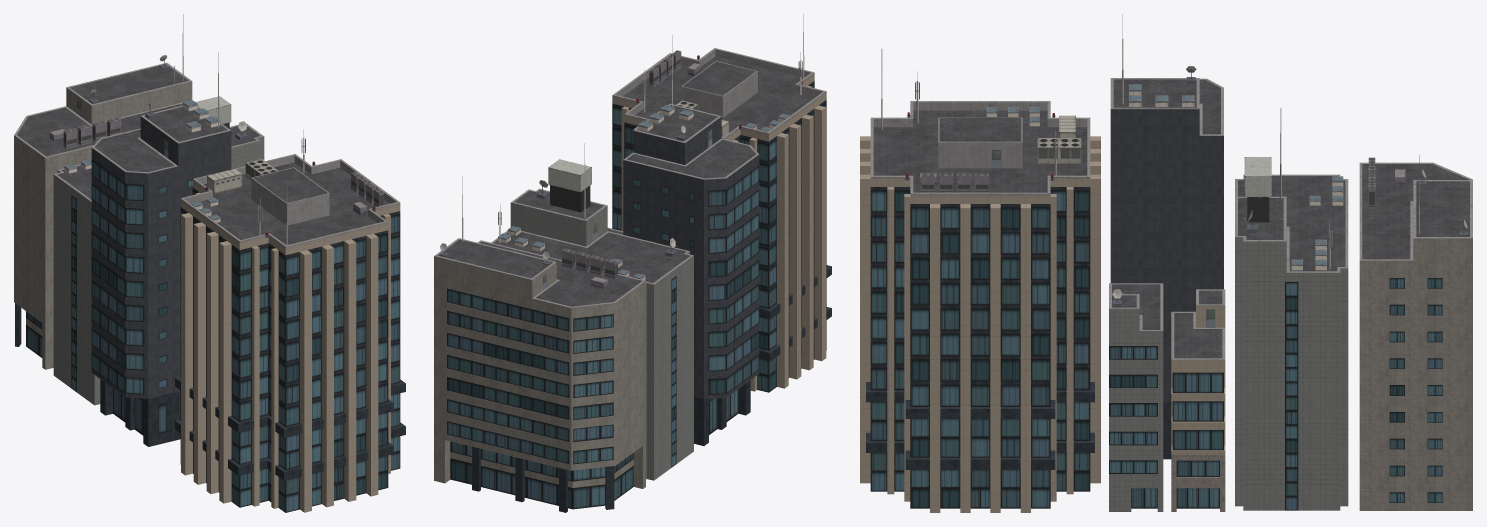
Rendered from buildSetJ.FBX.
3 renders of one model, left to right at view 1: azimuth 30°, elevation 25°; view 2: azimuth 150°, elevation 25°; view 3: azimuth 270°, elevation 25°, orthographic. The views are drawn at different scales.
Parts seen in each view (by area): view 1: buildSetJ; view 2: buildSetJ; view 3: buildSetJ.
Boxes of the visible parts, bbox=[...] form: buildSetJ: bbox=[14, 14, 405, 512]; buildSetJ: bbox=[434, 14, 831, 512]; buildSetJ: bbox=[860, 14, 1472, 512].
Size of what is drawn, in the model's own units: 990 by 2325 by 1848.
